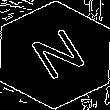N_SE: (21, 23, 89, 87)
